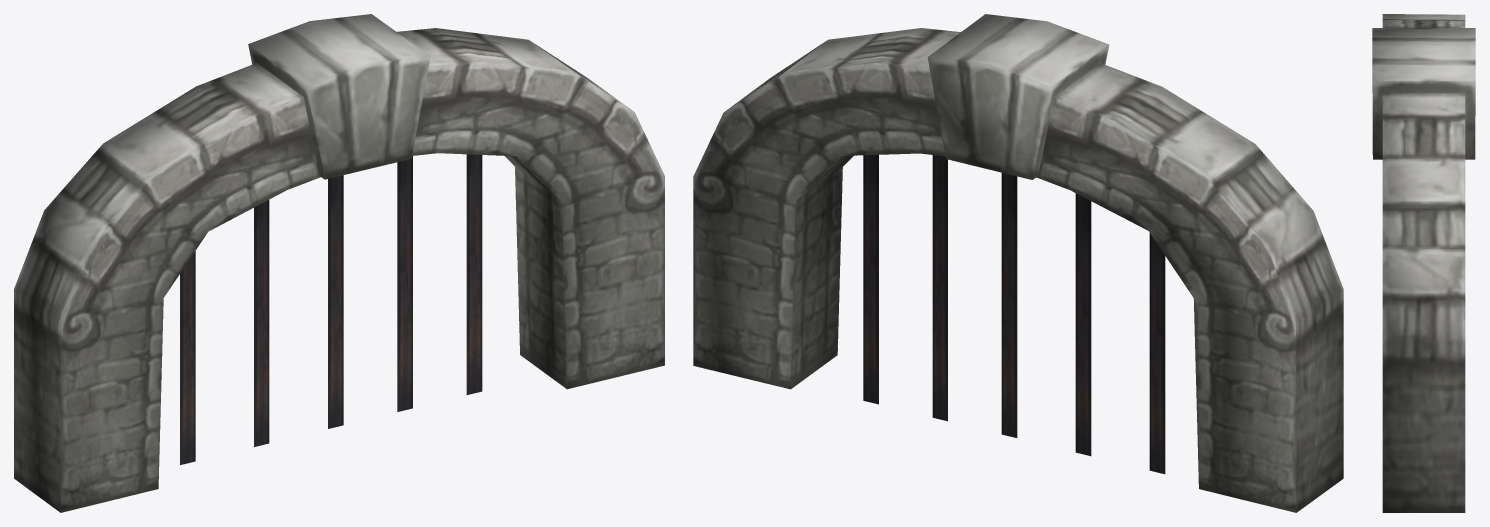
Rendered from unity_dungeon_wall04.FBX.
3 renders of one model, left to right at view 1: azimuth 30°, elevation 25°; view 2: azimuth 150°, elevation 25°; view 3: azimuth 270°, elevation 25°, orthographic. The views are drawn at different scales.
Parts seen in each view (by area): view 1: unity_dungeon_wall04; view 2: unity_dungeon_wall04; view 3: unity_dungeon_wall04.
Part boxes in pixels (bbox=[...]): unity_dungeon_wall04: bbox=[14, 14, 664, 512]; unity_dungeon_wall04: bbox=[693, 14, 1343, 512]; unity_dungeon_wall04: bbox=[1372, 14, 1475, 512].
Size of the model in its own units: 9.17 by 5.65 by 1.54.
